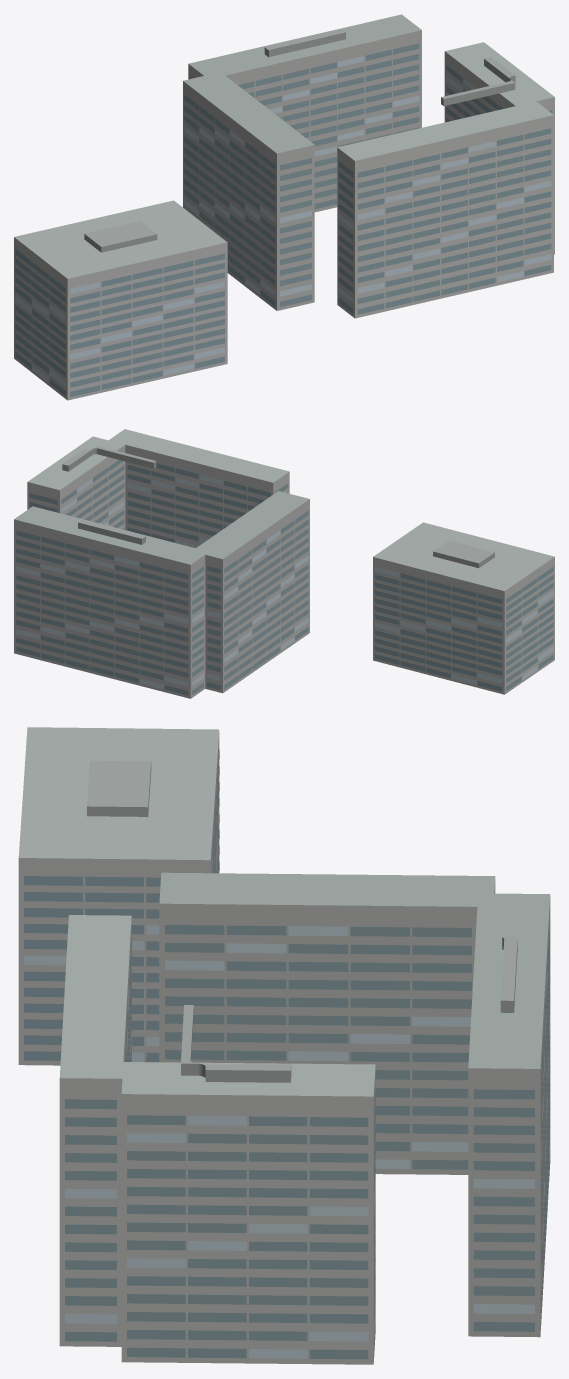
File: apt-a15083602.glb
3 views of the same model, one above another, from view 1: azimuth 30°, elevation 25°; view 2: azimuth 150°, elevation 25°; view 3: azimuth 270°, elevation 25° (orthographic). The views are drawn at different scales.
Parts seen in each view (by area): view 1: apt-a15083602; view 2: apt-a15083602; view 3: apt-a15083602.
Boxes of the visible parts, left/top/right/bottom form: apt-a15083602: left=14, top=14, right=554, bottom=400; apt-a15083602: left=14, top=429, right=554, bottom=698; apt-a15083602: left=18, top=727, right=550, bottom=1364.
Size of the model in its own units: 157 by 47.81 by 82.22.
